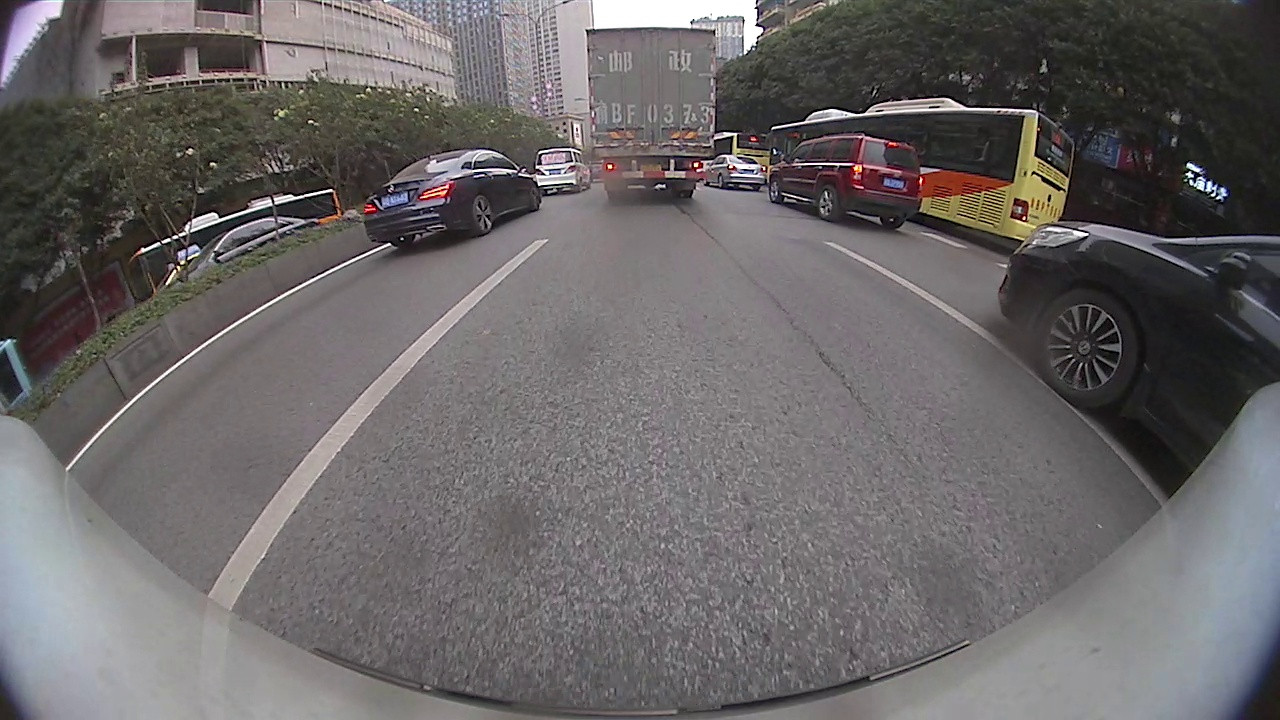bus: (772, 93, 1074, 245)
car: (999, 221, 1279, 472), (359, 151, 544, 246), (768, 134, 923, 230), (532, 145, 593, 190), (701, 153, 768, 192)
front: (1030, 287, 1140, 410), (768, 179, 784, 205)
rear: (815, 183, 841, 222), (470, 194, 493, 235)
truck: (585, 27, 714, 193)
